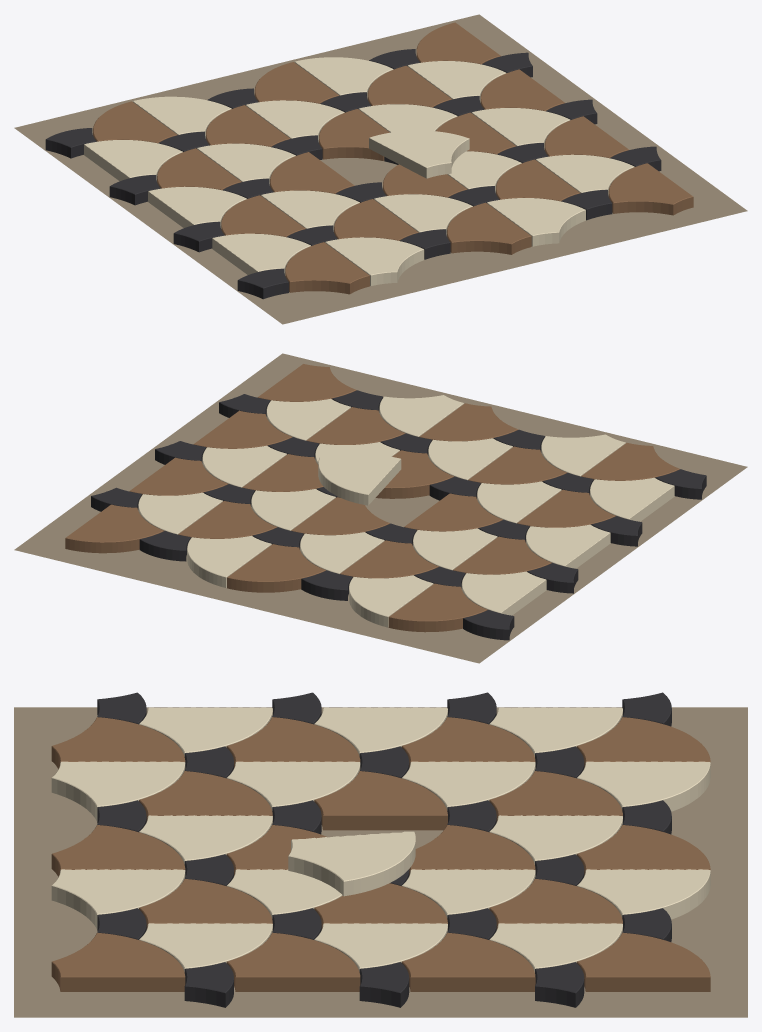
The model's file is terilgan.glb.
3 views of the same model, one above another, from view 1: azimuth 30°, elevation 25°; view 2: azimuth 150°, elevation 25°; view 3: azimuth 270°, elevation 25° (orthographic). The views are drawn at different scales.
Visible parts, largest first — view 1: qum, t.024, t.055, t.036, t.049, t.035, t.048, t.019, t.007, t.001, t.028, t.012 (+44 smaller); view 2: qum, t.024, t.016, t.033, t.004, t.001, t.007, t.003, t.015, t.019, t.030, t.035 (+44 smaller); view 3: qum, t.024, t.055, t.025, t.033, t.046, t.053, t.048, t.035, t.015, t.003, t.027 (+44 smaller).
Boxes of the visible parts, x1,y1,x2,y2 form: qum: (14, 14, 747, 324); t.024: (369, 130, 469, 178); t.055: (608, 163, 693, 215); t.036: (285, 242, 369, 294); t.049: (447, 202, 531, 254); t.035: (325, 237, 424, 285); t.048: (487, 198, 585, 246); t.019: (212, 233, 310, 275); t.007: (148, 186, 246, 228); t.001: (84, 140, 182, 180); t.028: (319, 109, 389, 160); t.012: (245, 100, 344, 142); qum: (14, 353, 747, 663); t.024: (318, 452, 401, 505); t.016: (227, 544, 325, 592); t.033: (65, 504, 163, 553); t.004: (388, 583, 487, 632); t.001: (461, 571, 546, 615); t.007: (526, 524, 610, 568); t.003: (349, 575, 433, 627); t.015: (187, 535, 271, 587); t.019: (590, 477, 674, 521); t.030: (138, 492, 222, 534); t.035: (541, 434, 625, 476); qum: (14, 707, 747, 1017); t.024: (288, 831, 415, 896); t.055: (51, 932, 185, 991); t.025: (314, 771, 447, 830); t.033: (576, 932, 710, 991); t.046: (401, 932, 535, 991); t.053: (226, 932, 360, 991); t.048: (51, 869, 185, 928); t.035: (51, 761, 185, 820); t.015: (577, 869, 710, 919); t.003: (577, 761, 710, 811); t.027: (402, 869, 535, 917).
Size of the model in its own units: 1.66 by 0.078 by 1.66.
